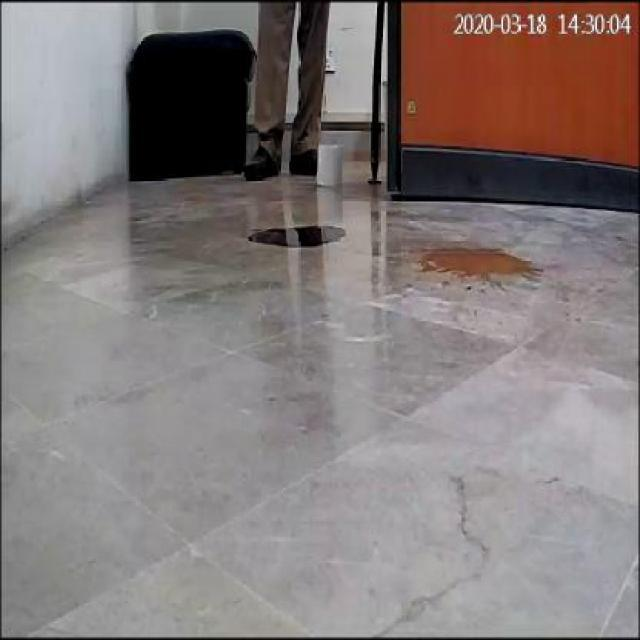spill: (414, 242, 551, 278), (246, 217, 345, 252)
